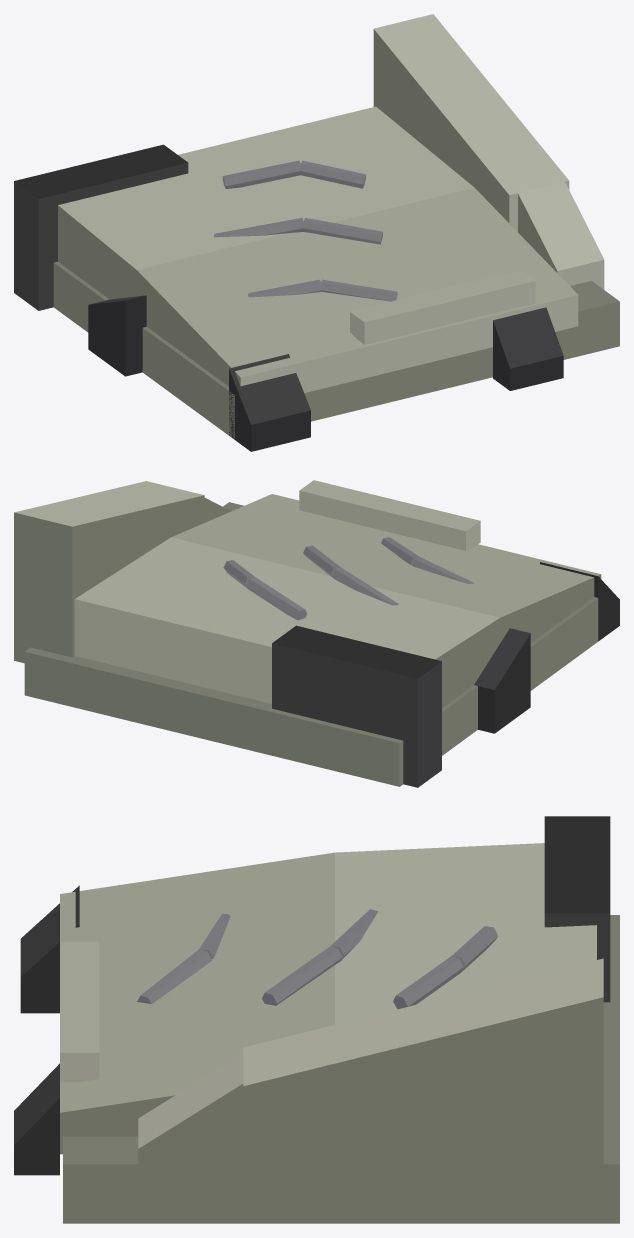
The model's file is Building_ShipChunk_Mech__B.glb.
The picture shows the model from 3 angles, top to bottom: view 1: azimuth 30°, elevation 25°; view 2: azimuth 150°, elevation 25°; view 3: azimuth 270°, elevation 25°; orthographic projection. The views are drawn at different scales.
Parts seen in each view (by area): view 1: ShipChunk_Mech__B; view 2: ShipChunk_Mech__B; view 3: ShipChunk_Mech__B.
Boxes of the visible parts, box(x1,y1,x2,y2) form: ShipChunk_Mech__B: box(14, 14, 619, 451); ShipChunk_Mech__B: box(14, 480, 619, 787); ShipChunk_Mech__B: box(14, 816, 619, 1223).
Bounding box in the file's own units: 1.96 × 0.8 × 1.85.
1 material, 1 textured.
